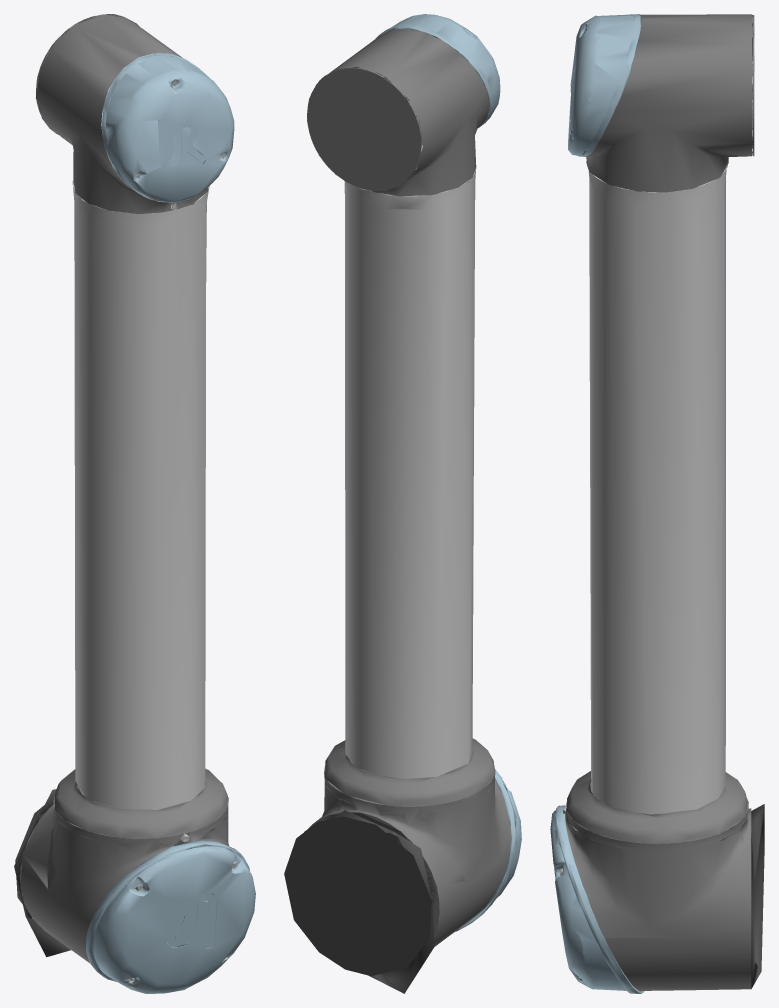
The model's file is forearm.dae.
3 renders of one model, left to right at view 1: azimuth 30°, elevation 25°; view 2: azimuth 150°, elevation 25°; view 3: azimuth 270°, elevation 25°, orthographic. The views are drawn at different scales.
Parts seen in each view (by area): view 1: node-shape3-name, node-shape1-name, node-shape0-name, node-shape4-name; view 2: node-shape3-name, node-shape0-name, node-shape4-name, node-shape1-name; view 3: node-shape3-name, node-shape0-name, node-shape1-name, node-shape4-name.
Boxes of the visible parts, box(x1,y1,x2,y2) form: node-shape3-name: box(72, 180, 209, 809); node-shape1-name: box(86, 53, 255, 993); node-shape0-name: box(20, 14, 229, 962); node-shape4-name: box(14, 789, 164, 957); node-shape3-name: box(344, 145, 476, 778); node-shape0-name: box(307, 28, 510, 946); node-shape4-name: box(284, 810, 436, 993); node-shape1-name: box(365, 14, 521, 931); node-shape3-name: box(588, 165, 727, 814); node-shape0-name: box(565, 14, 754, 990); node-shape1-name: box(550, 14, 644, 993); node-shape4-name: box(751, 804, 764, 988).
Bounding box in the file's own units: 0.1204 × 0.1363 × 0.6841.
